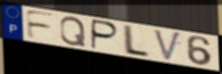6: (185, 35, 214, 67)
F: (24, 8, 57, 41)
L: (122, 24, 152, 59)
P: (90, 18, 121, 51)
Q: (59, 16, 88, 48)
V: (152, 28, 183, 63)
